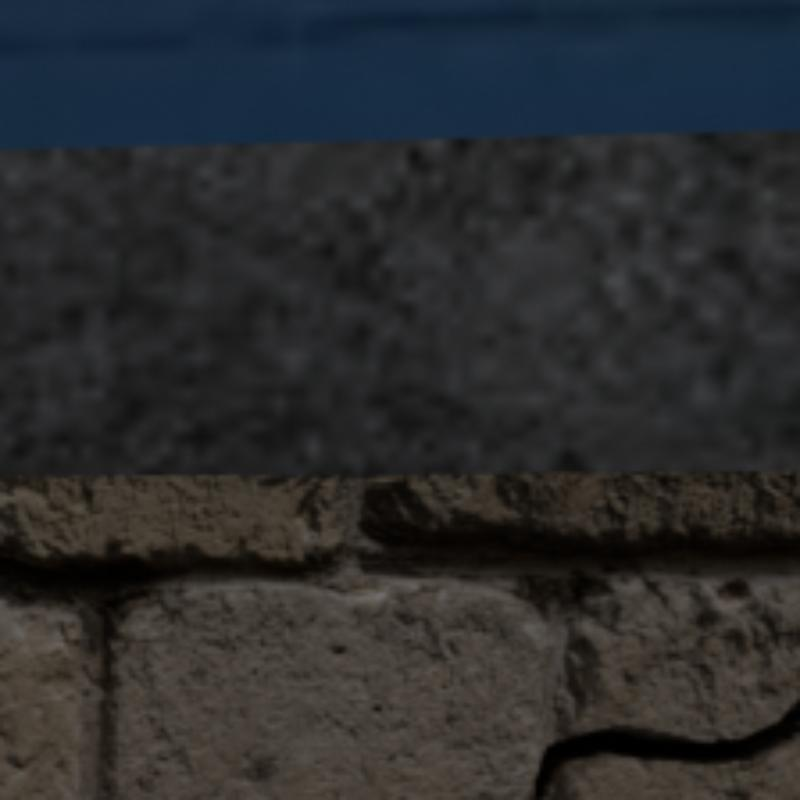crack: (529, 700, 796, 796)
